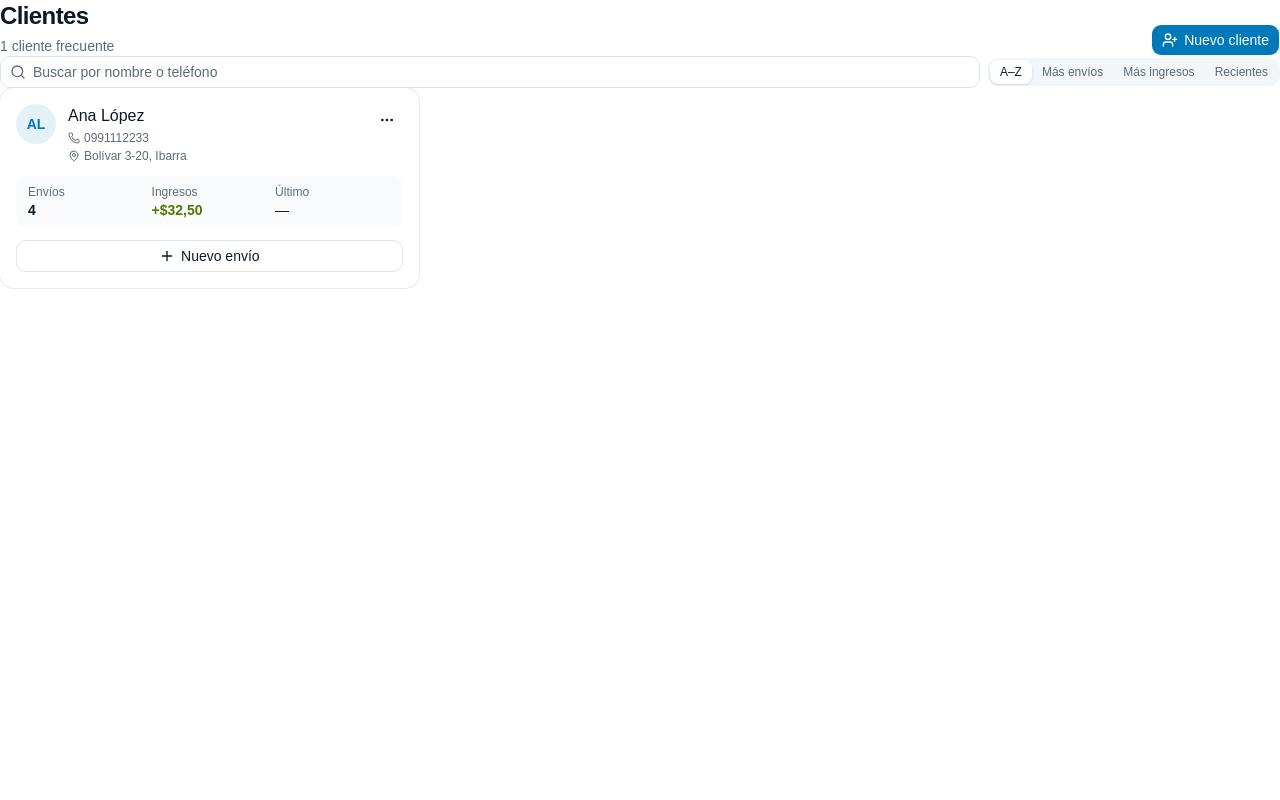
it: ClientesPage › elimina un cliente tras confirmar
Click the button named "Acciones de Ana López": (387, 120) [371,104,403,136]
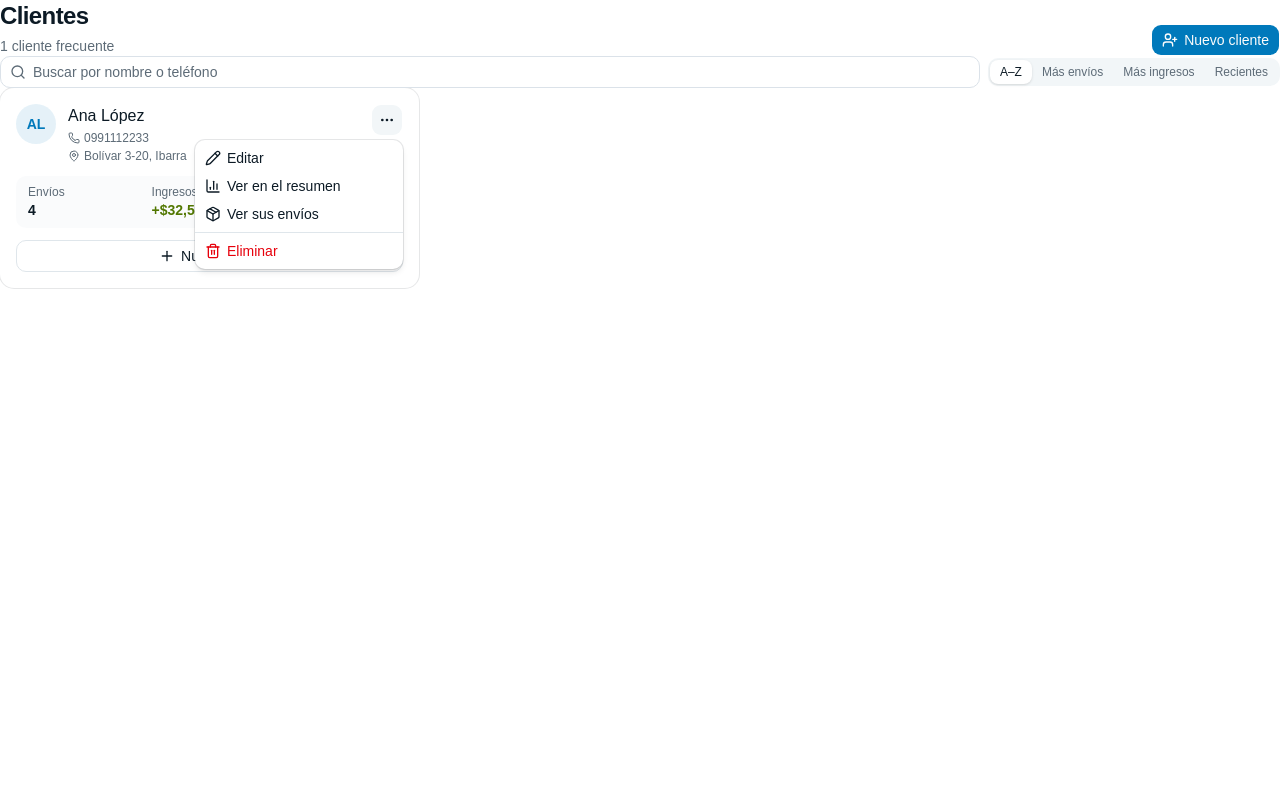
Click the menu item "Eliminar": (241, 251) [205,243,278,259]
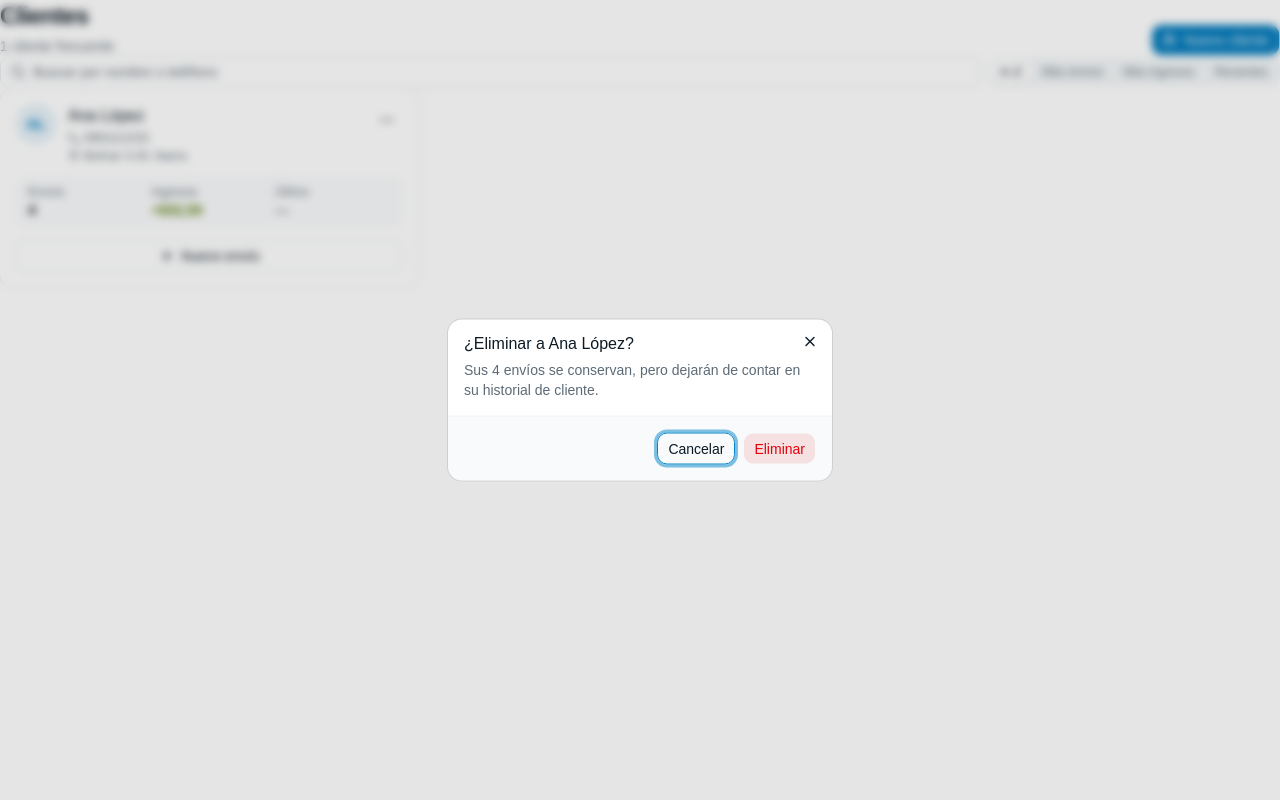
Expected: the text "Sus 4 envíos se conservan" is shown, [464,360,816,400]
Click the button "Eliminar": (780, 448) [743,432,816,464]
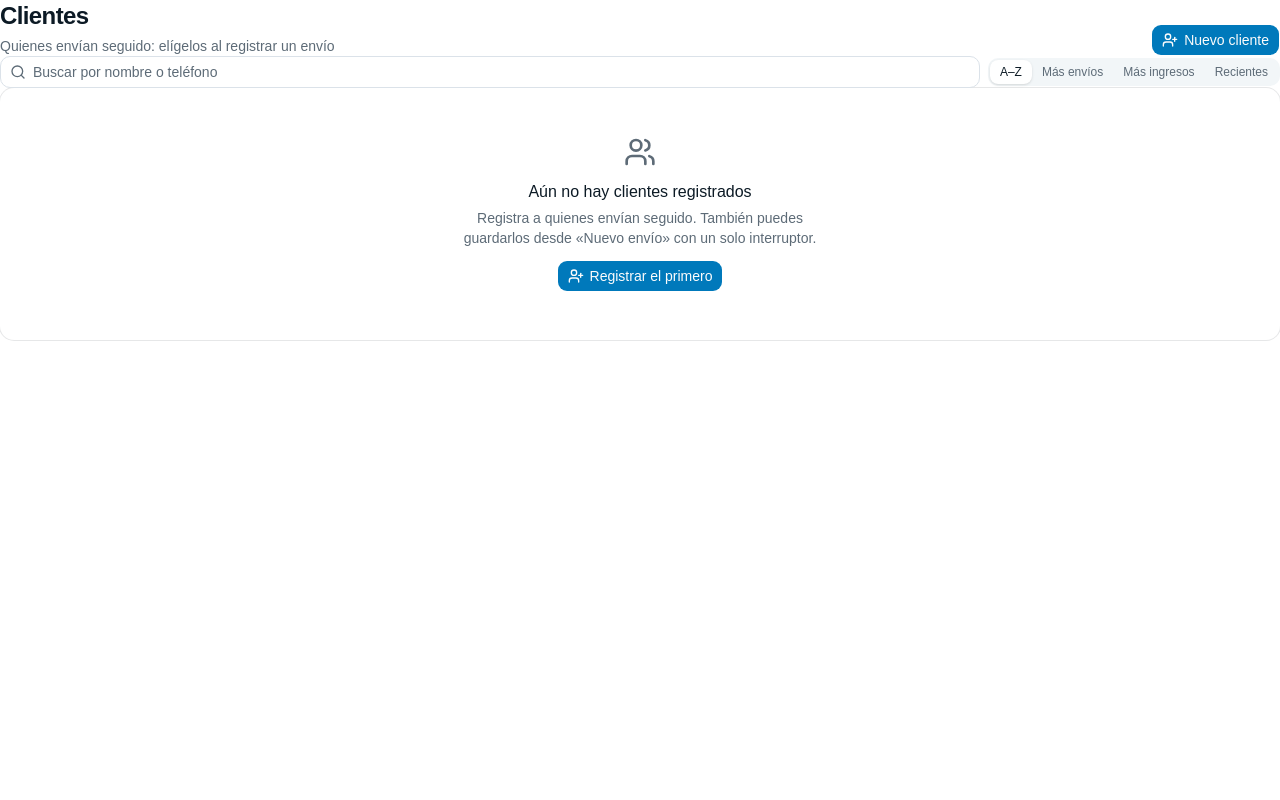
Expected: the text "Aún no hay clientes registrados" is shown, [528,183,752,200]
